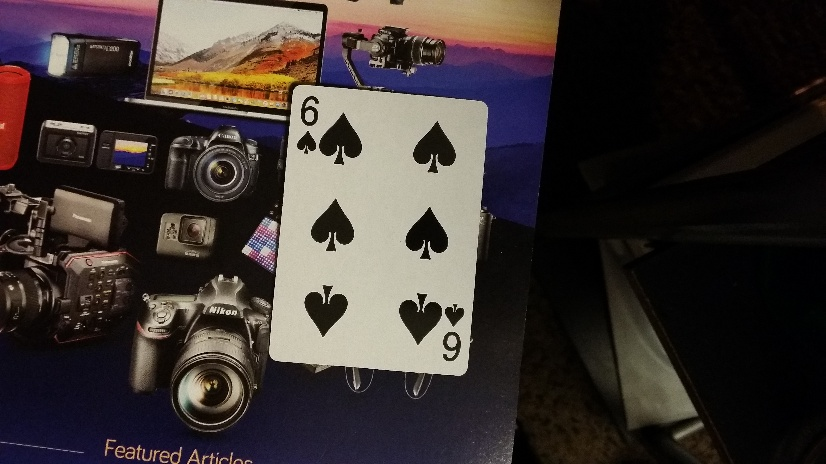S6: (441, 295, 465, 364), (297, 91, 319, 155)
